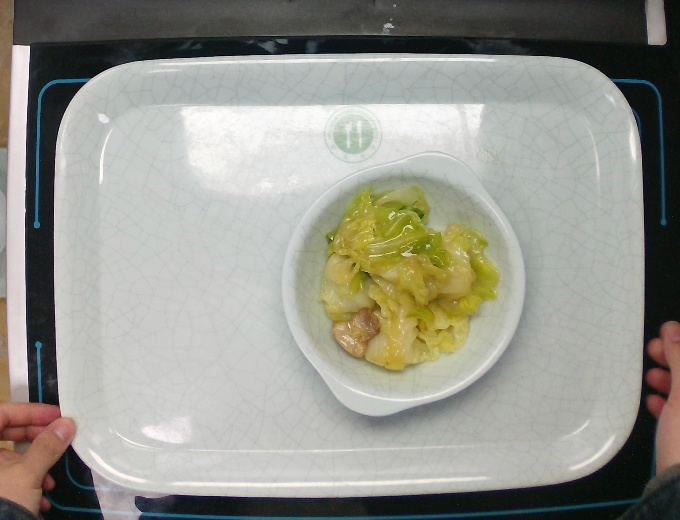JYsf-Shuang_Er_Wan: (281, 152, 531, 422)
